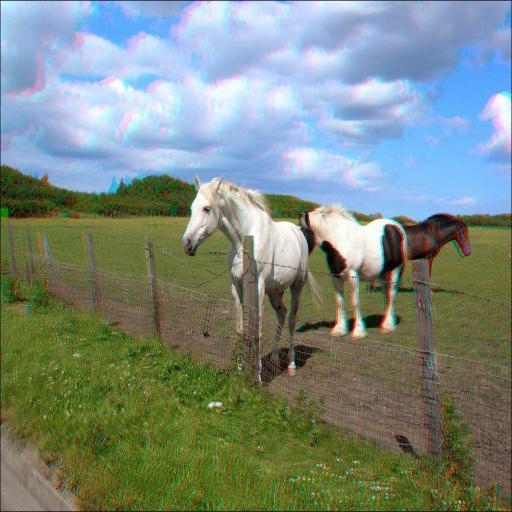Horse: (184, 174, 324, 392), (298, 198, 412, 342), (364, 210, 472, 311)
